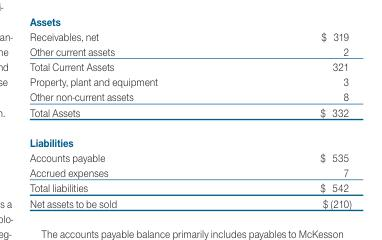table: (28, 29, 350, 209)
table column: (28, 29, 238, 209), (238, 29, 350, 209)
table projected row header: (28, 126, 350, 149)
table row: (28, 126, 350, 149), (28, 104, 350, 126), (28, 88, 350, 104), (28, 179, 350, 195), (28, 43, 350, 58), (28, 58, 350, 73), (28, 73, 350, 88), (28, 149, 350, 164), (28, 164, 350, 179), (28, 29, 350, 43), (28, 195, 350, 209)
